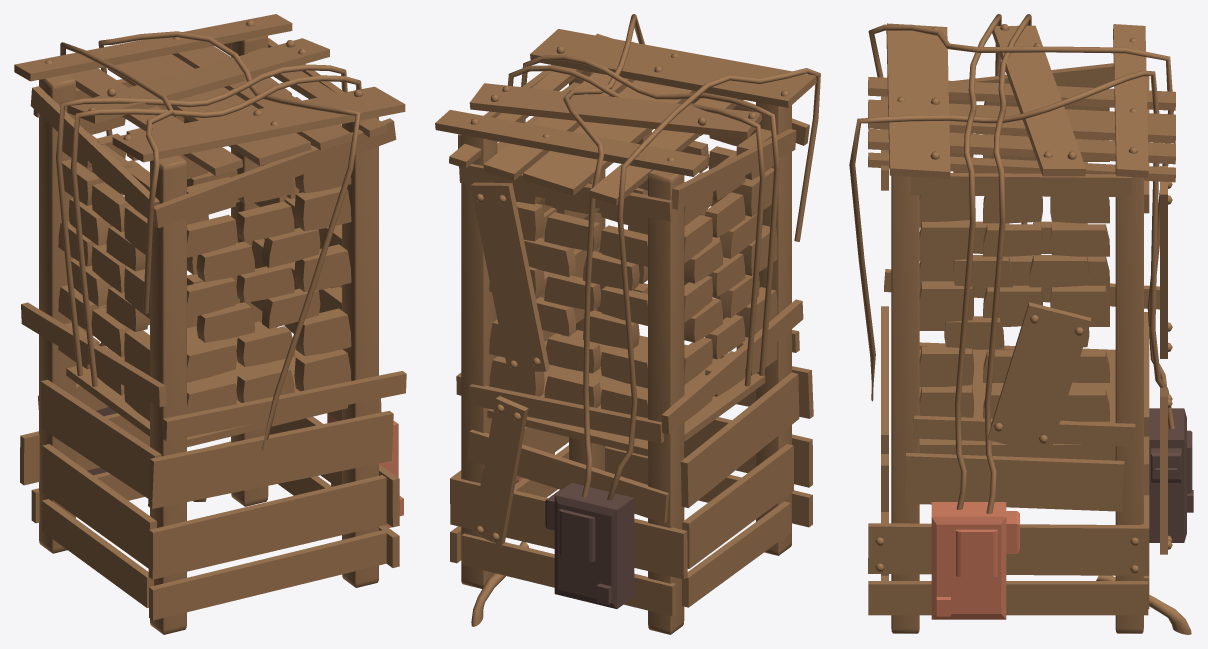
File: TourNV2.fbx
The picture shows the model from 3 angles, left to right: view 1: azimuth 30°, elevation 25°; view 2: azimuth 150°, elevation 25°; view 3: azimuth 270°, elevation 25°; orthographic projection. The views are drawn at different scales.
Visible parts, largest first — view 1: TourNV2, Cables_Electriques, Generateur_Recharge_Vie; view 2: TourNV2, Cables_Electriques, Generateur_Recharge_Arme; view 3: TourNV2, Cables_Electriques, Generateur_Recharge_Vie, Generateur_Recharge_Arme.
Boxes of the visible parts, box(x1,y1,x2,y2) form: TourNV2: box(14, 14, 406, 634); Cables_Electriques: box(56, 31, 361, 501); Generateur_Recharge_Vie: box(327, 411, 403, 527); TourNV2: box(435, 29, 816, 634); Cables_Electriques: box(471, 14, 820, 626); Generateur_Recharge_Arme: box(545, 482, 634, 608); TourNV2: box(868, 23, 1175, 633); Cables_Electriques: box(849, 14, 1191, 634); Generateur_Recharge_Vie: box(931, 502, 1019, 619); Generateur_Recharge_Arme: box(1149, 408, 1193, 542).
Size of the model in its own units: 944 by 1536 by 921.
